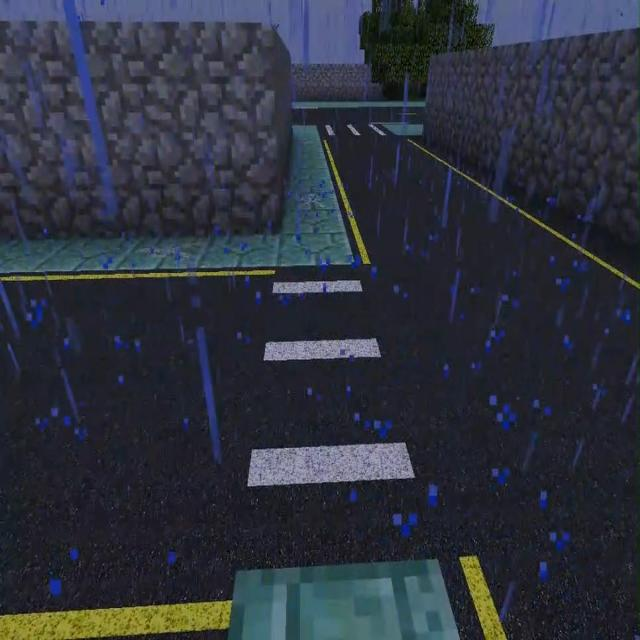8: (235, 265, 436, 571), (228, 558, 461, 639), (319, 125, 394, 140)
crosswalk: (326, 140, 639, 639), (0, 278, 273, 639), (293, 110, 424, 125)
road: (0, 128, 356, 274), (291, 100, 426, 110), (384, 125, 425, 136)
